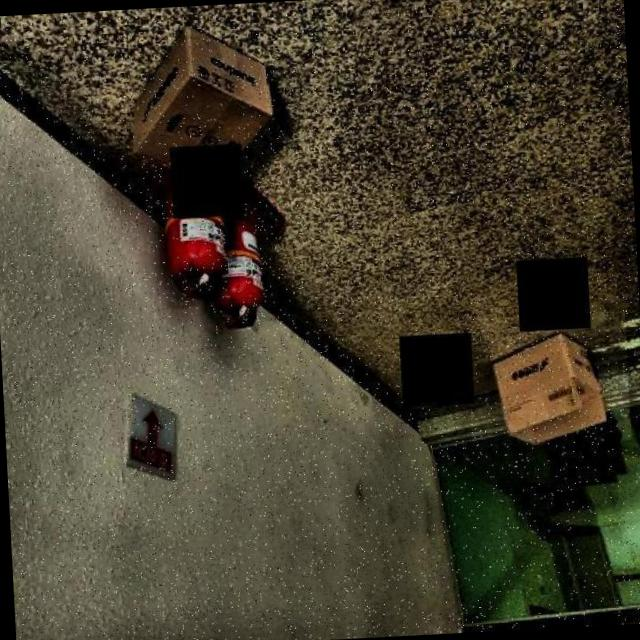box: (98, 4, 281, 197), (464, 311, 632, 448)
